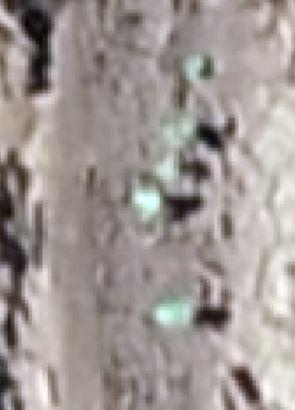cotton: (155, 299, 192, 323), (134, 190, 163, 216), (157, 154, 182, 181), (169, 119, 196, 141), (191, 53, 211, 76)
